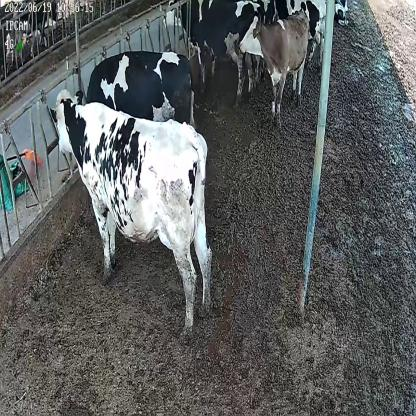cow: (49, 90, 216, 338), (162, 1, 260, 104), (239, 4, 311, 135), (84, 50, 197, 124), (333, 0, 349, 30)
